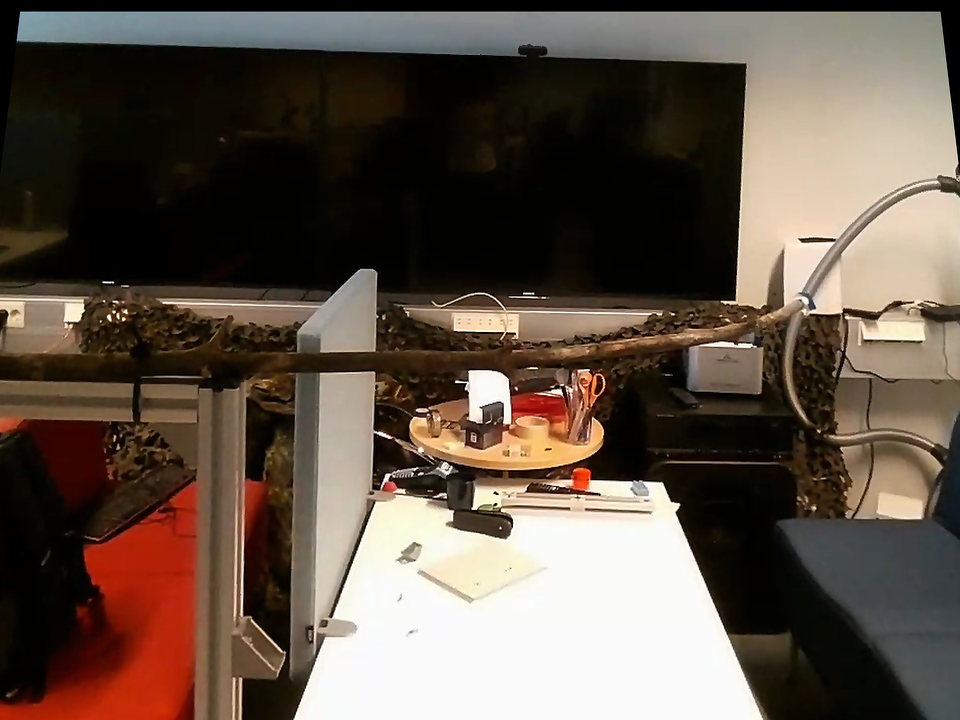branch: (253, 295, 780, 389)
